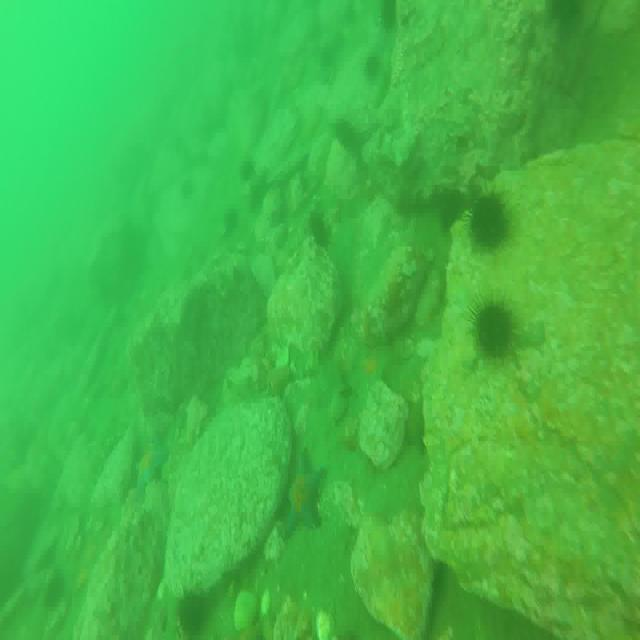echinus: (475, 296, 515, 363), (471, 188, 506, 249), (306, 204, 332, 252), (252, 178, 273, 216), (362, 52, 381, 82), (177, 175, 196, 201), (241, 160, 256, 183)
starfish: (284, 443, 326, 537), (135, 429, 167, 506), (357, 344, 392, 410)
